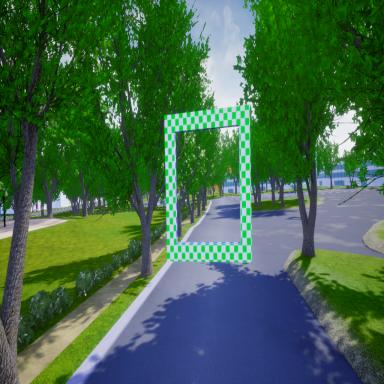gate: (166, 103, 252, 265)
